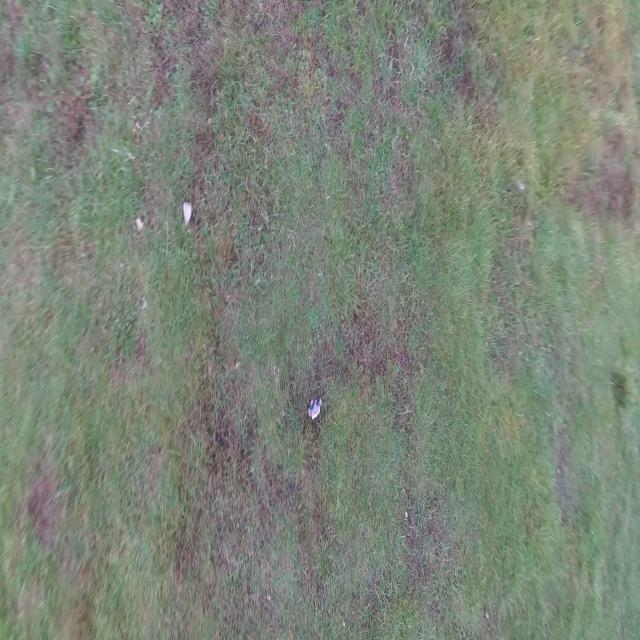rubbish: (306, 394, 322, 421), (182, 203, 192, 231)
